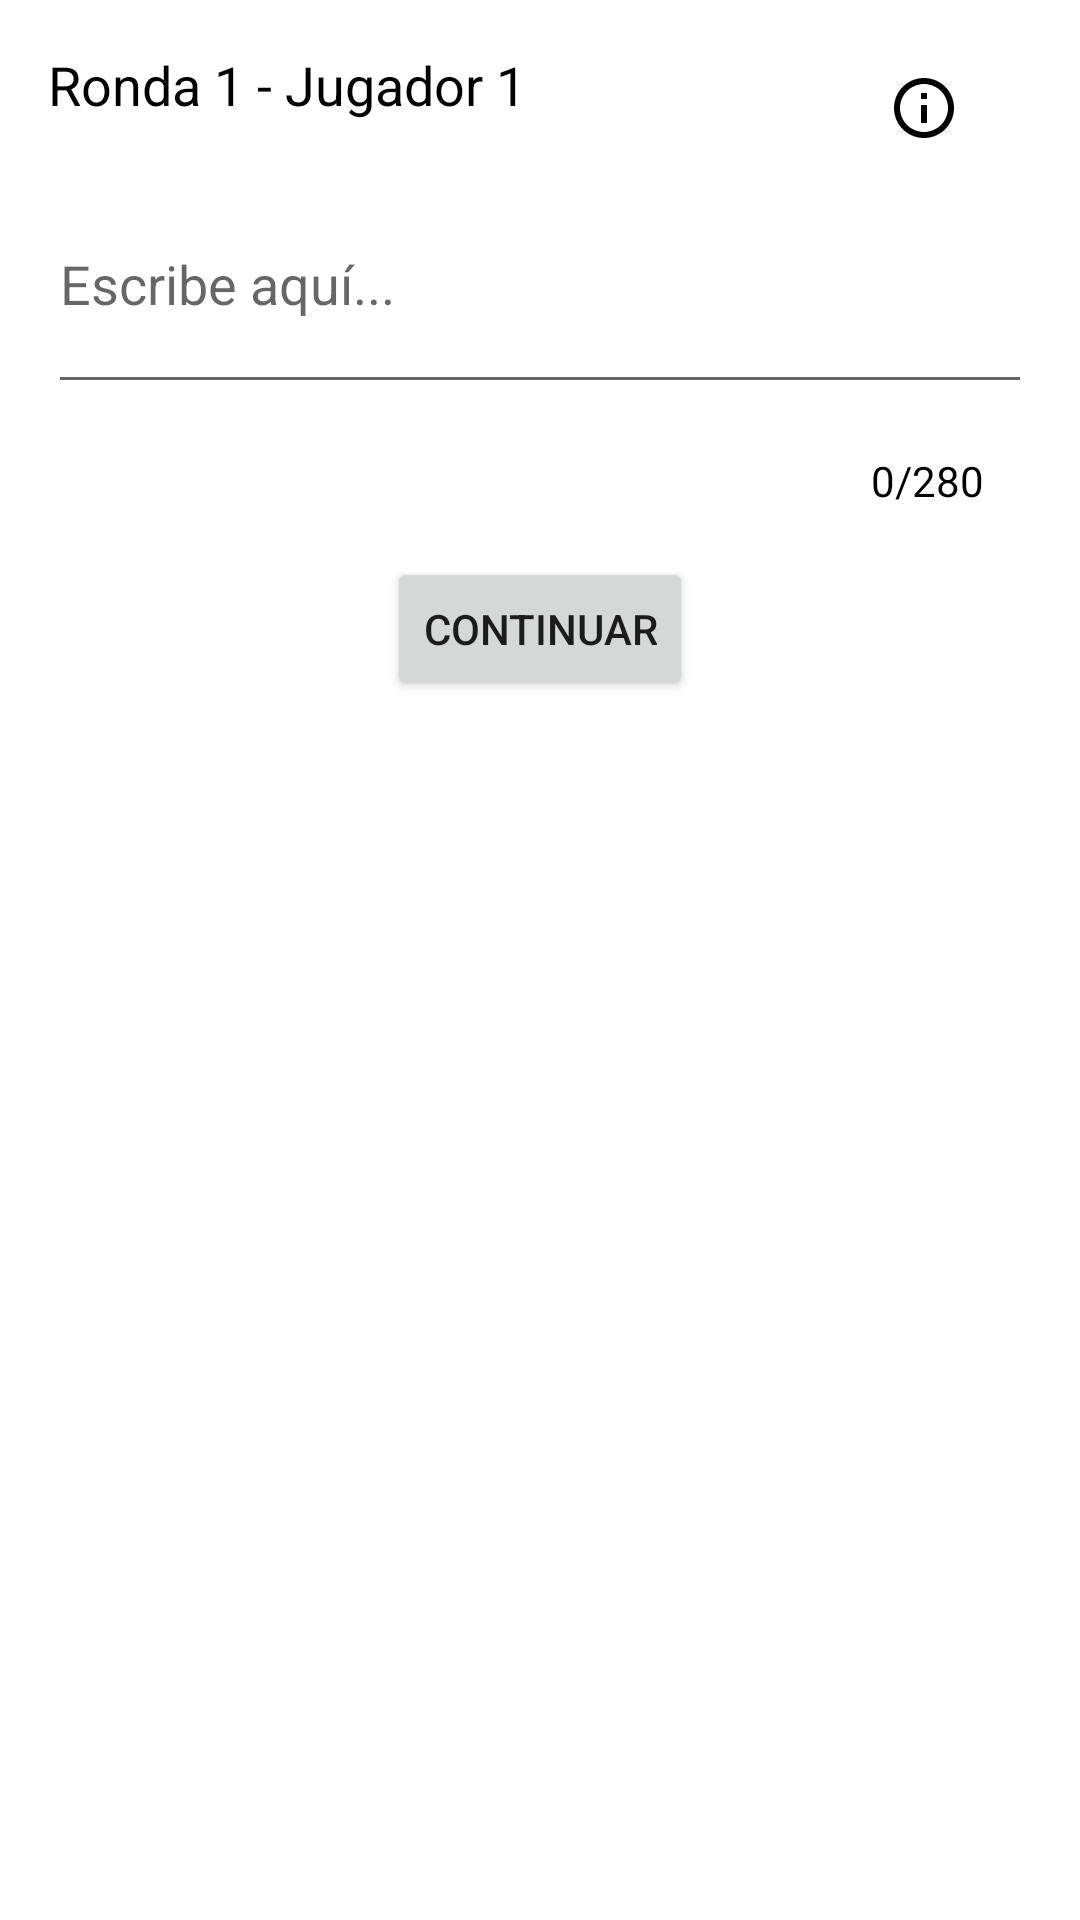

Screen size 1080×1920. Icon name, then its center in pixels as [x,y]:
info: [924,108]
